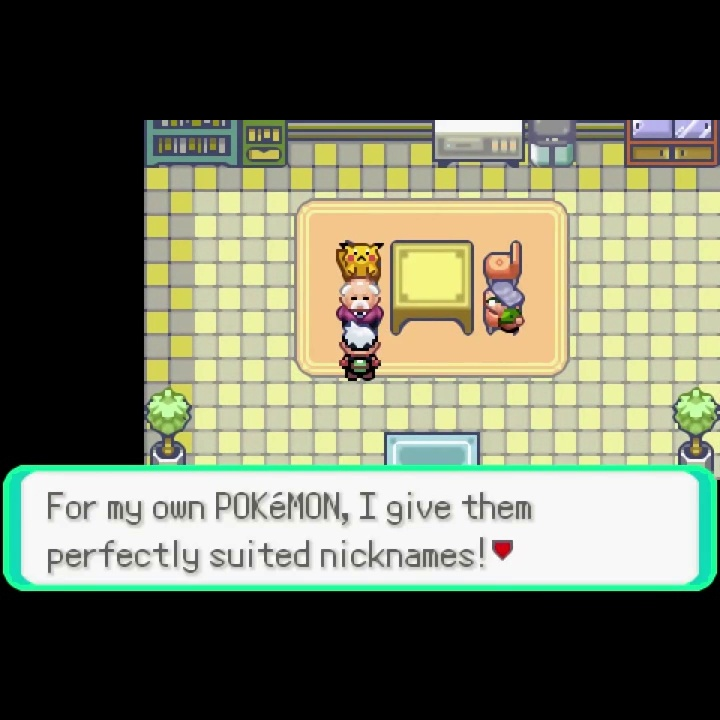agent: (337, 321, 383, 384)
exit: (381, 429, 482, 465)
npc: (480, 278, 529, 337), (335, 278, 386, 327)
